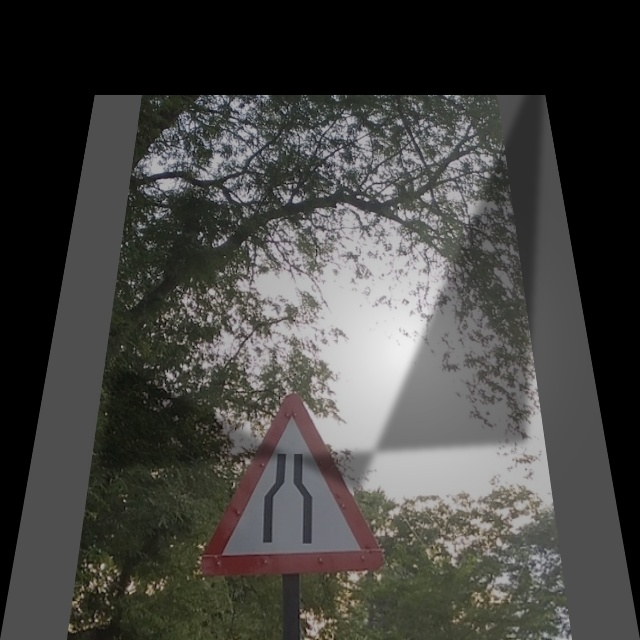Narrow_Road_Ahead: (202, 391, 386, 573)
